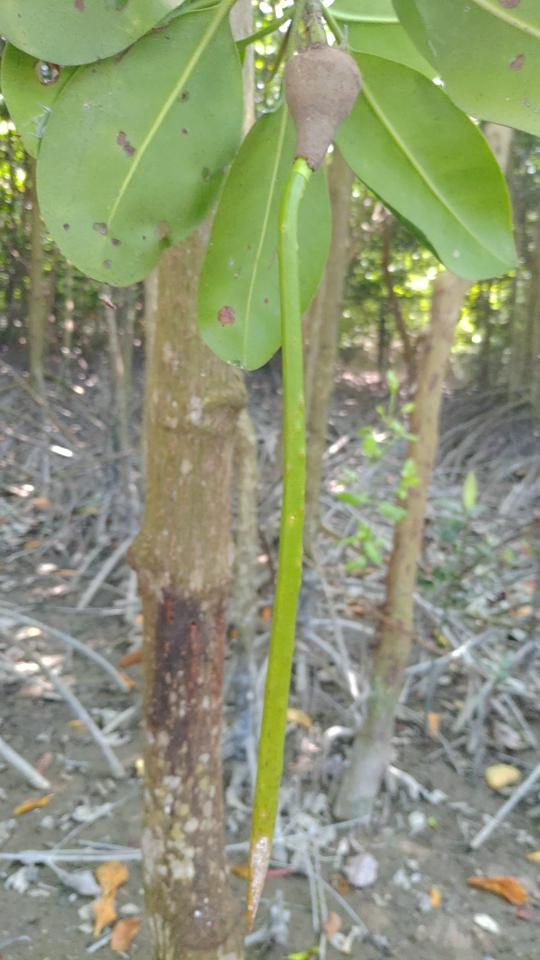setengah matang: (231, 23, 372, 936)
